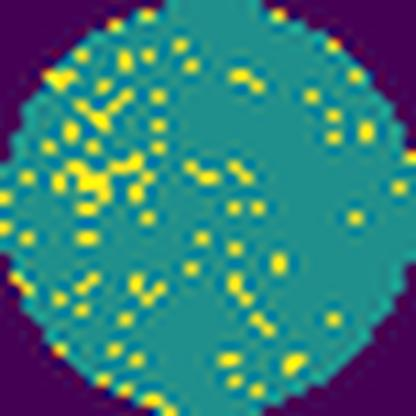Edge-Loc: (48, 150, 150, 216)
